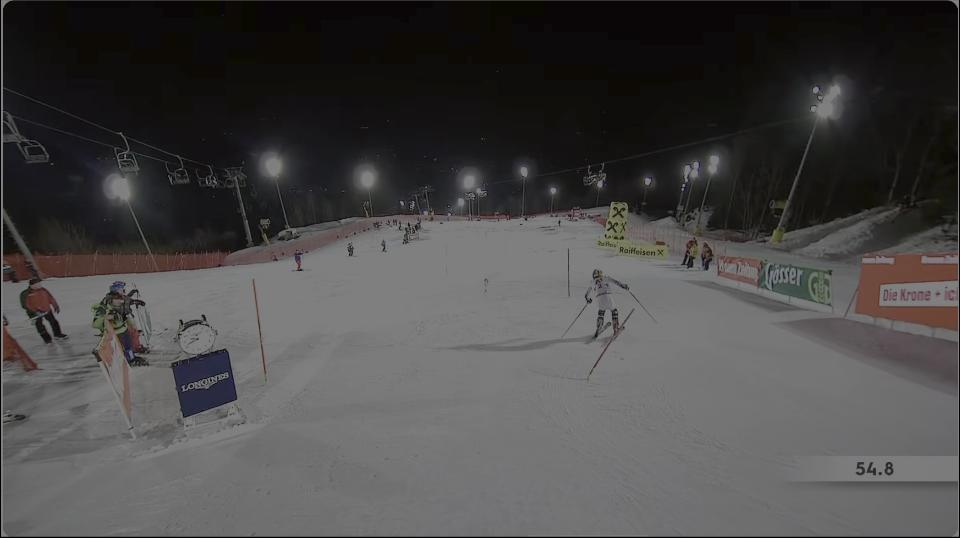gate: (237, 271, 281, 391), (580, 310, 641, 385), (559, 243, 576, 300)
